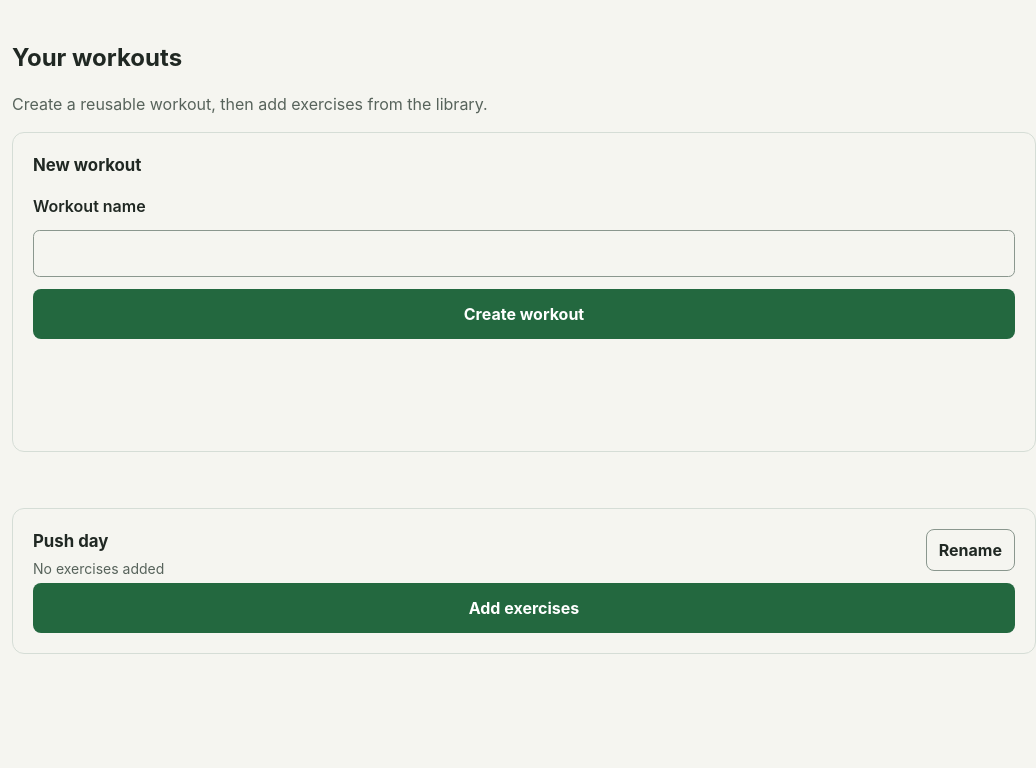
Test case: saved workouts › cancels a rename without sending a write
Click the button with aria-label "Rename Push day": (970, 550) top-left (926, 529), bottom-right (1015, 571)
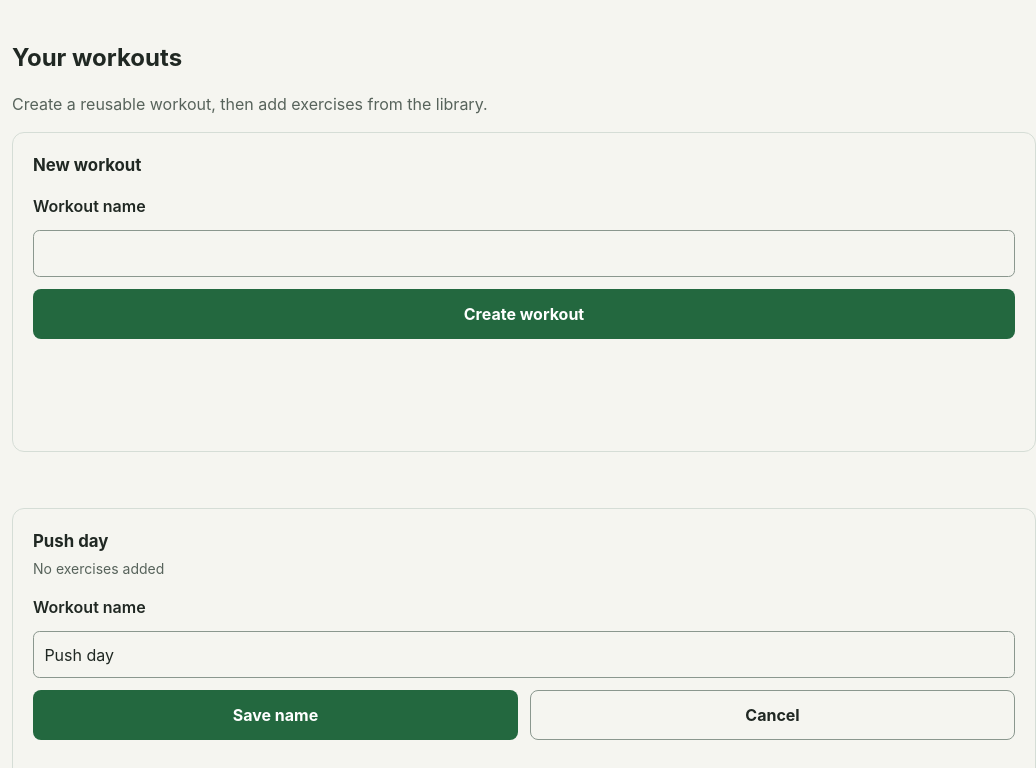
Click the button "Cancel": (772, 715) top-left (530, 690), bottom-right (1015, 740)
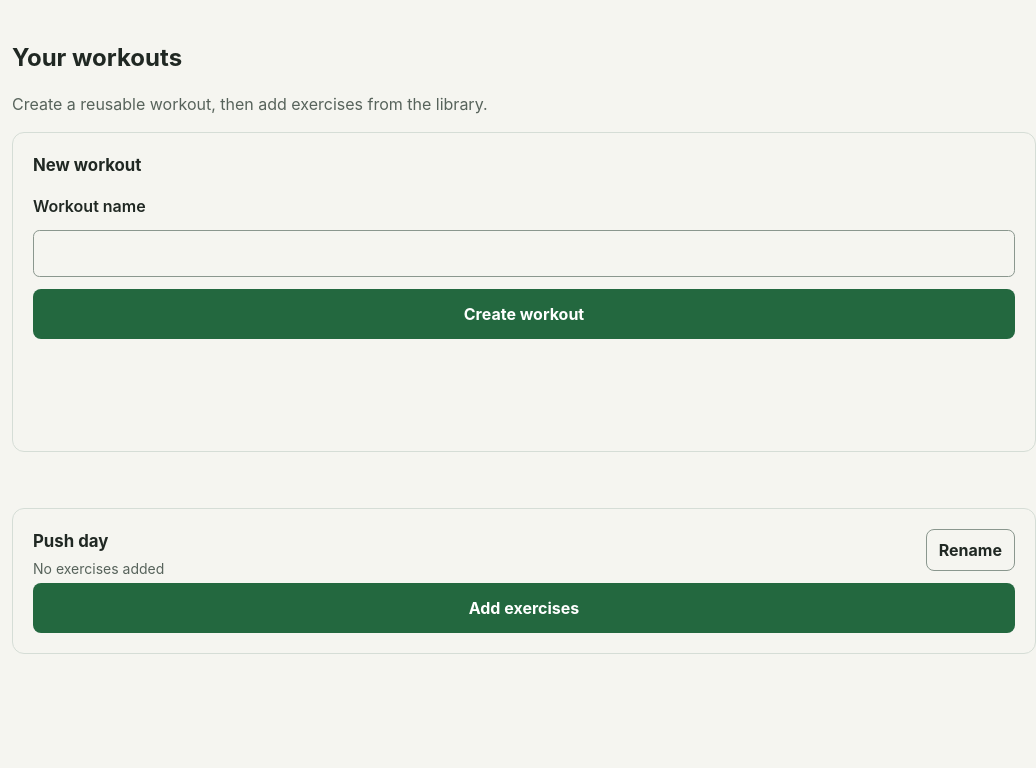
Expected: the button with aria-label "Rename Push day" is shown, top-left (926, 529), bottom-right (1015, 571)
